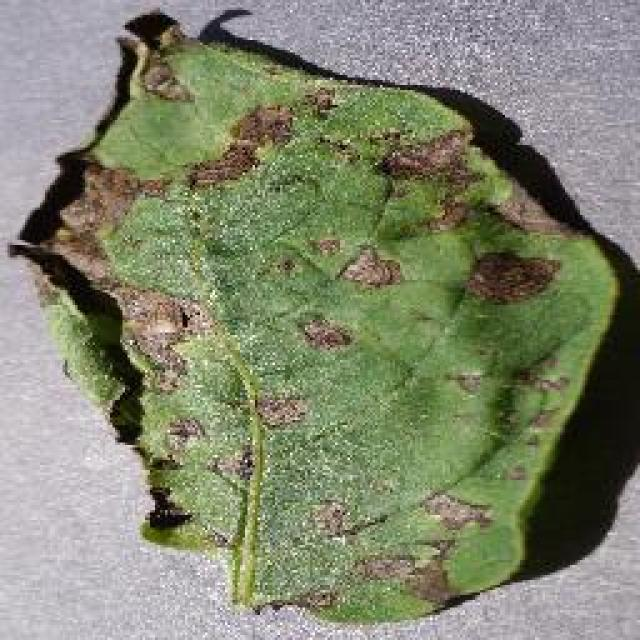Potato: (7, 5, 635, 625)
